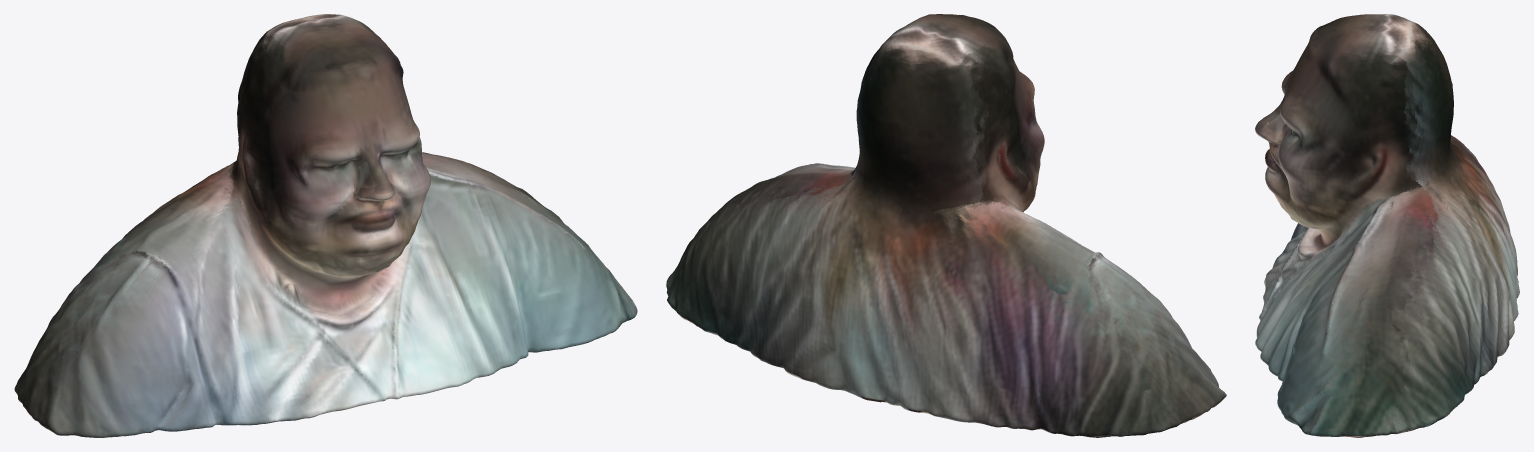
The model's file is toxa.glb.
3 views of the same model, side by side, from view 1: azimuth 30°, elevation 25°; view 2: azimuth 150°, elevation 25°; view 3: azimuth 270°, elevation 25° (orthographic). The views are drawn at different scales.
Parts seen in each view (by area): view 1: Object_2; view 2: Object_2; view 3: Object_2.
Boxes of the visible parts, x1,y1,x2,y2 form: Object_2: [14, 14, 637, 437]; Object_2: [666, 14, 1226, 437]; Object_2: [1255, 14, 1519, 437].
Size of the model in its own units: 1.96 by 1.09 by 0.8915.
Materials: 1 (1 with a texture image).
